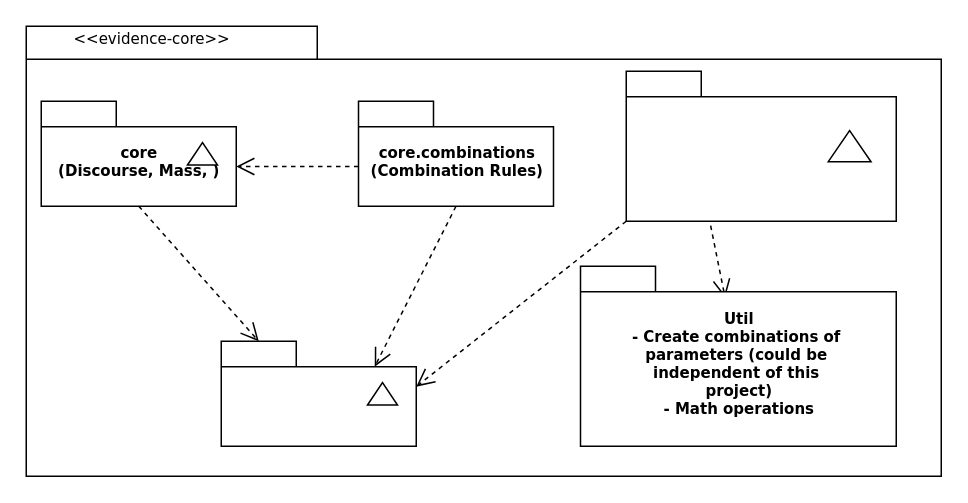
Image size: 968x503. Some labels were removed from this diagram. The shapes that lost their labels are listed below. From the top down, each one's box as (x1, y1, x2, y2) in pixels, then its label:
(625, 70, 896, 221): Datatypes (Structure of solution for multiple values of each parameter)
(220, 340, 416, 446): Exceptions
